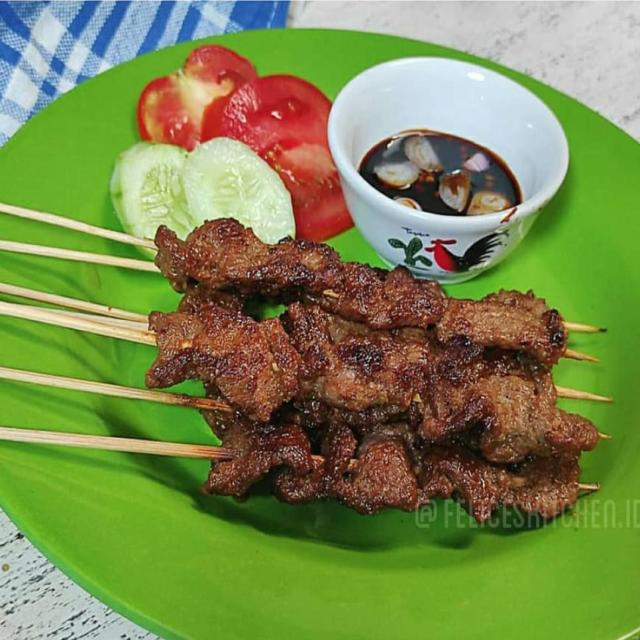Sate: (26, 204, 586, 554)
